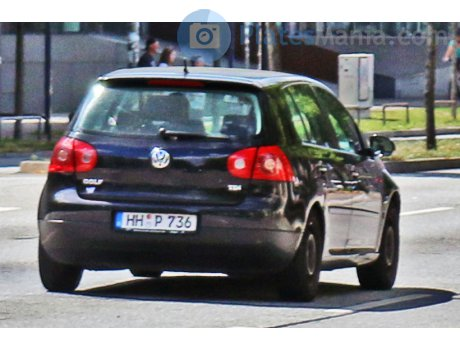License Plates: (122, 210, 191, 228)
